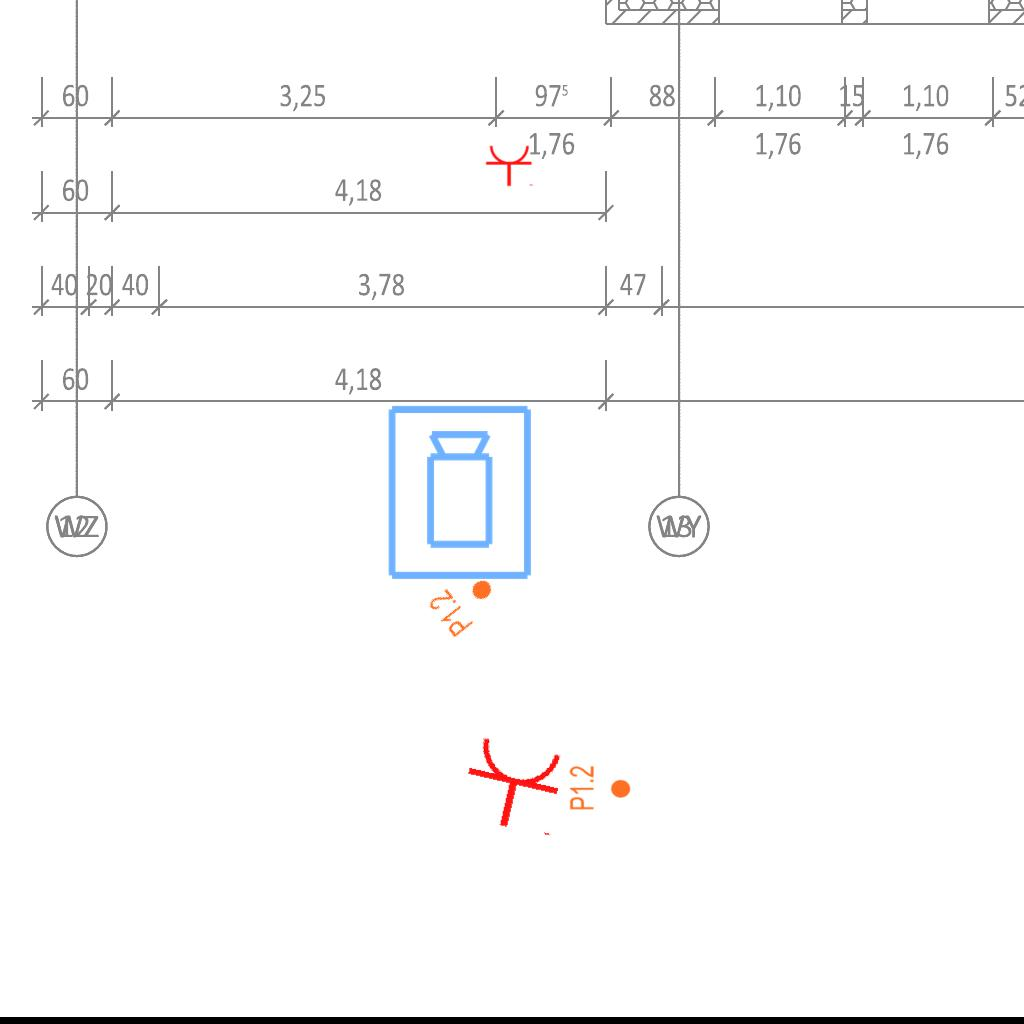Downlight_LED_Einbauleuchten_Flur: (425, 564, 505, 640), (568, 765, 632, 811)
KFO_Kamera_mit_Festobjektiv: (384, 402, 538, 584)
Schukosteckdose_einfach: (455, 732, 574, 840), (485, 144, 535, 187)
